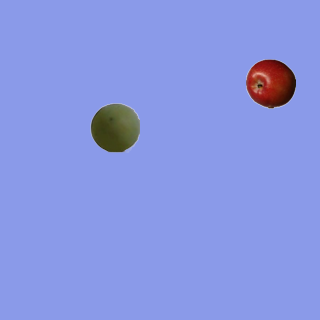Apple Braeburn: (245, 58, 295, 108)
Grape White 4: (89, 102, 139, 152)
